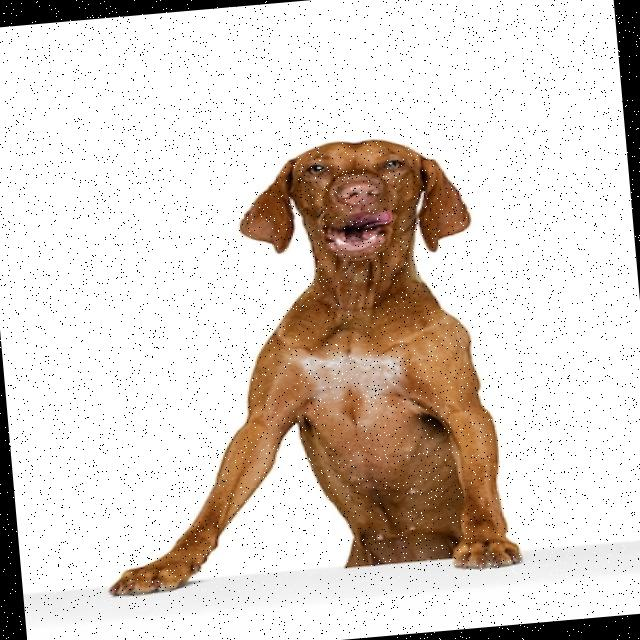Dog: (66, 128, 524, 601)
